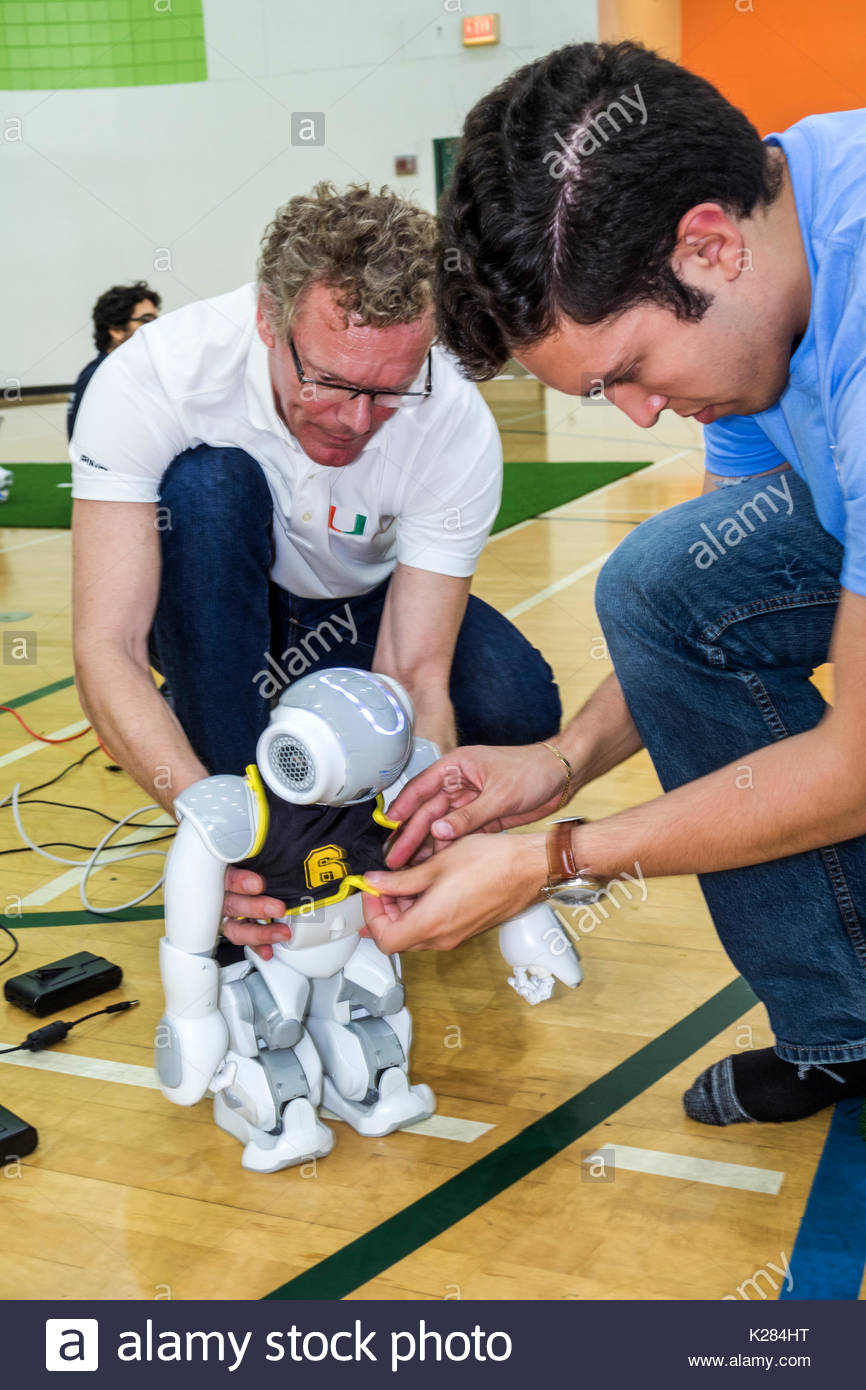nao: (133, 643, 608, 1204)
